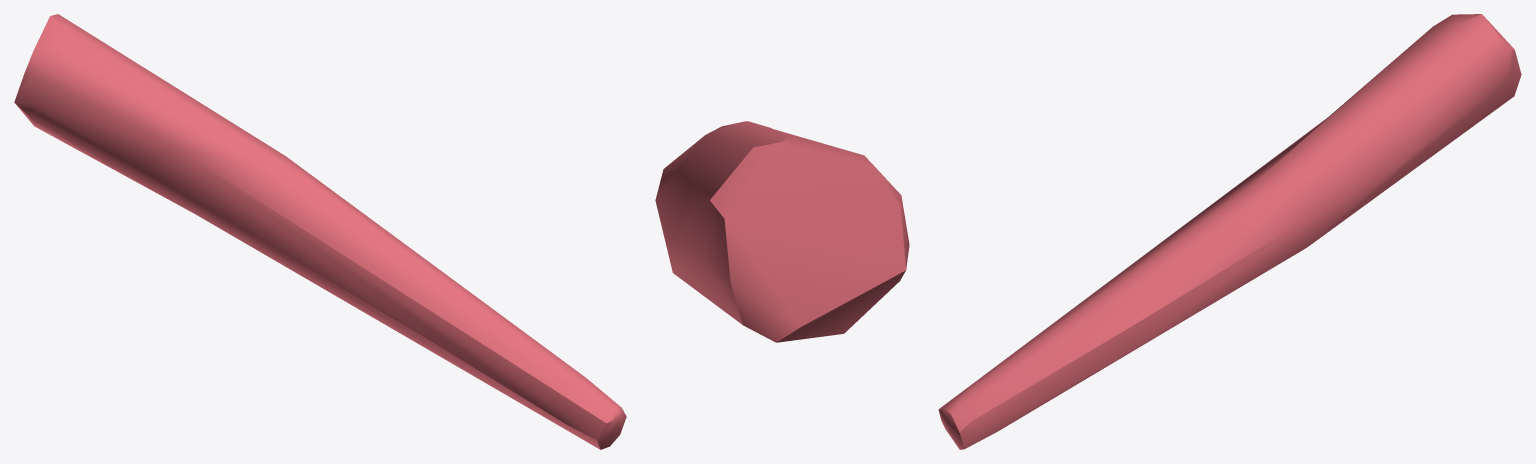
The model's file is fma8645_fj2887.glb.
3 renders of one model, left to right at view 1: azimuth 30°, elevation 25°; view 2: azimuth 150°, elevation 25°; view 3: azimuth 270°, elevation 25°, orthographic. The views are drawn at different scales.
Parts seen in each view (by area): view 1: FMA8645_FJ2887; view 2: FMA8645_FJ2887; view 3: FMA8645_FJ2887.
Part boxes in pixels (<box>): FMA8645_FJ2887: <box>14,14,626,449</box>; FMA8645_FJ2887: <box>655,121,909,342</box>; FMA8645_FJ2887: <box>938,14,1521,449</box>.
Bounding box in the file's own units: 0.0129 × 0.0105 × 0.0187.
